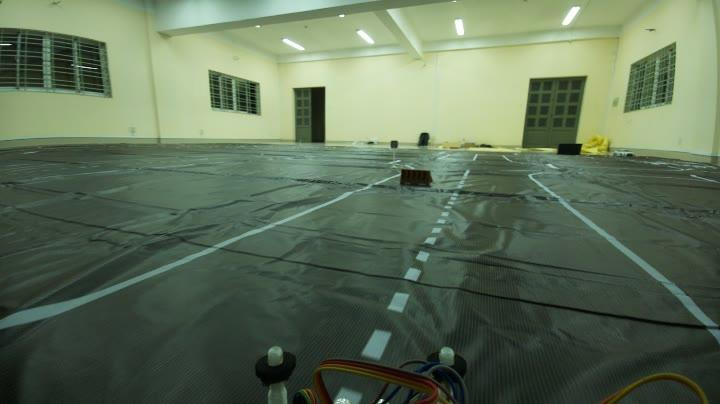roadblock: (394, 166, 434, 194)
